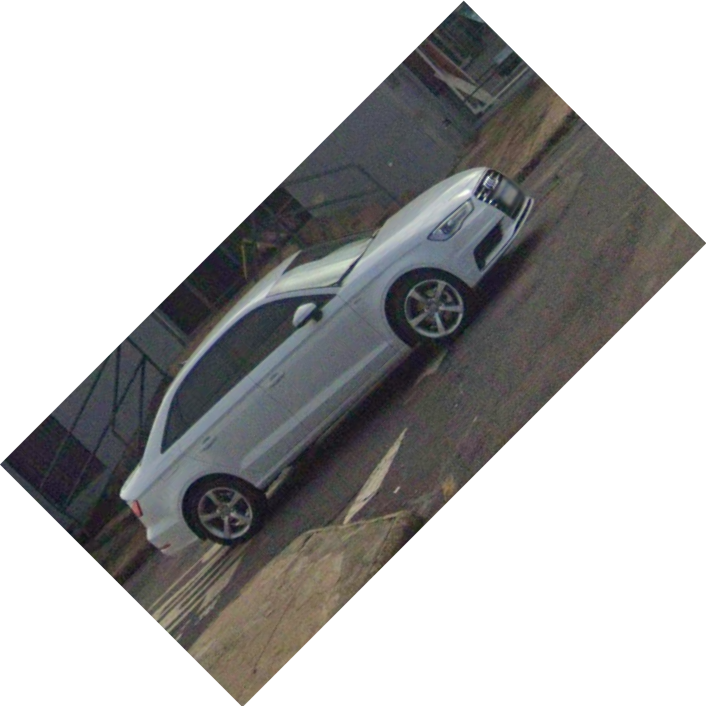car: (116, 164, 555, 562)
